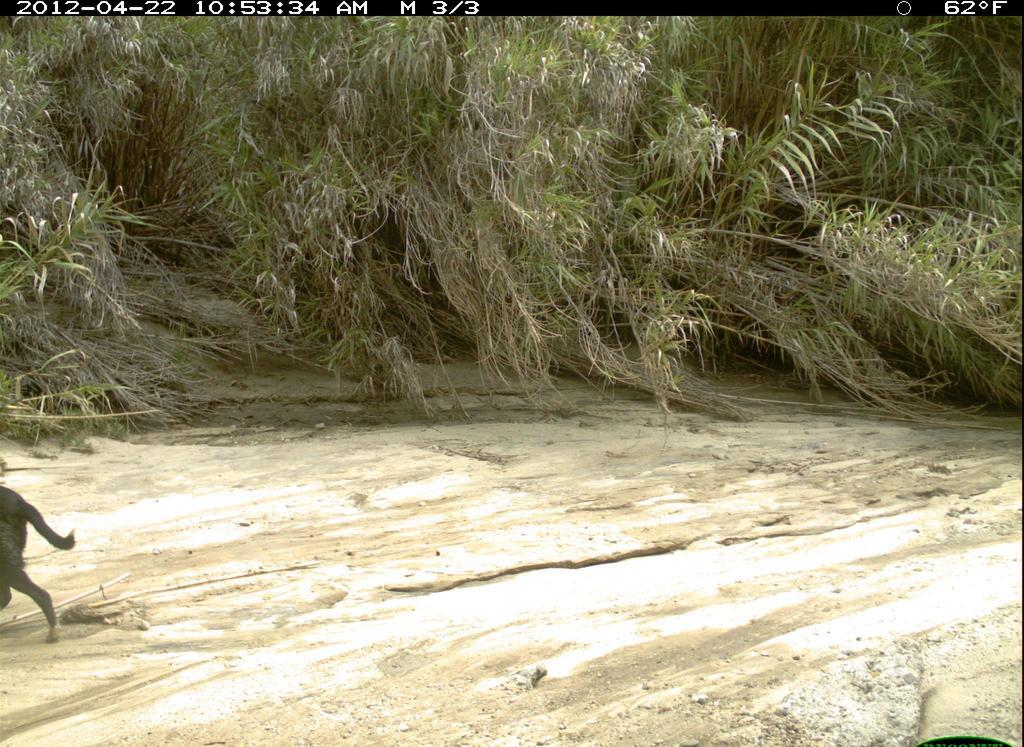dog: (2, 487, 84, 656)
